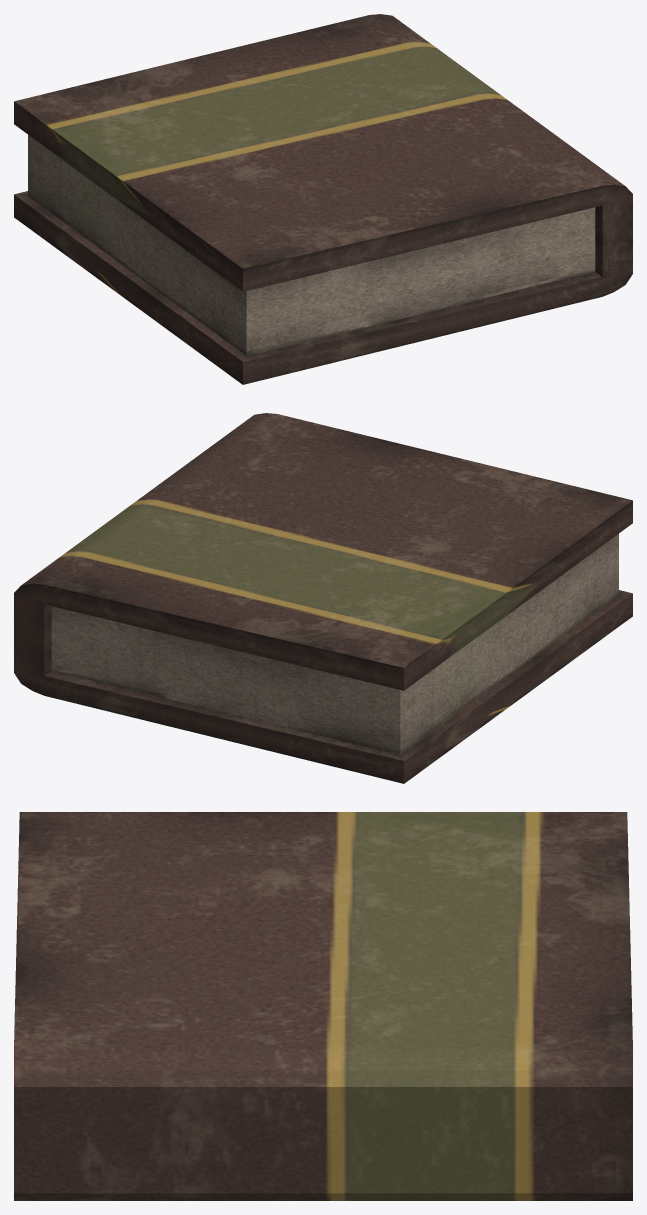
Rendered from Book_Thick.fbx.
The picture shows the model from 3 angles, top to bottom: view 1: azimuth 30°, elevation 25°; view 2: azimuth 150°, elevation 25°; view 3: azimuth 270°, elevation 25°; orthographic projection. The views are drawn at different scales.
Visible parts, largest first — view 1: Cube.001; view 2: Cube.001; view 3: Cube.001.
Boxes of the visible parts, x1,y1,x2,y2 form: Cube.001: (14, 14, 632, 384); Cube.001: (14, 413, 632, 783); Cube.001: (14, 812, 632, 1200).
Size of the model in its own units: 1243 by 355 by 1294.
